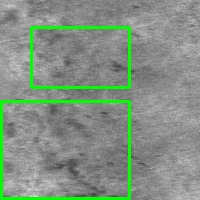rolled-in_scale: (1, 101, 129, 198), (31, 27, 129, 87)
